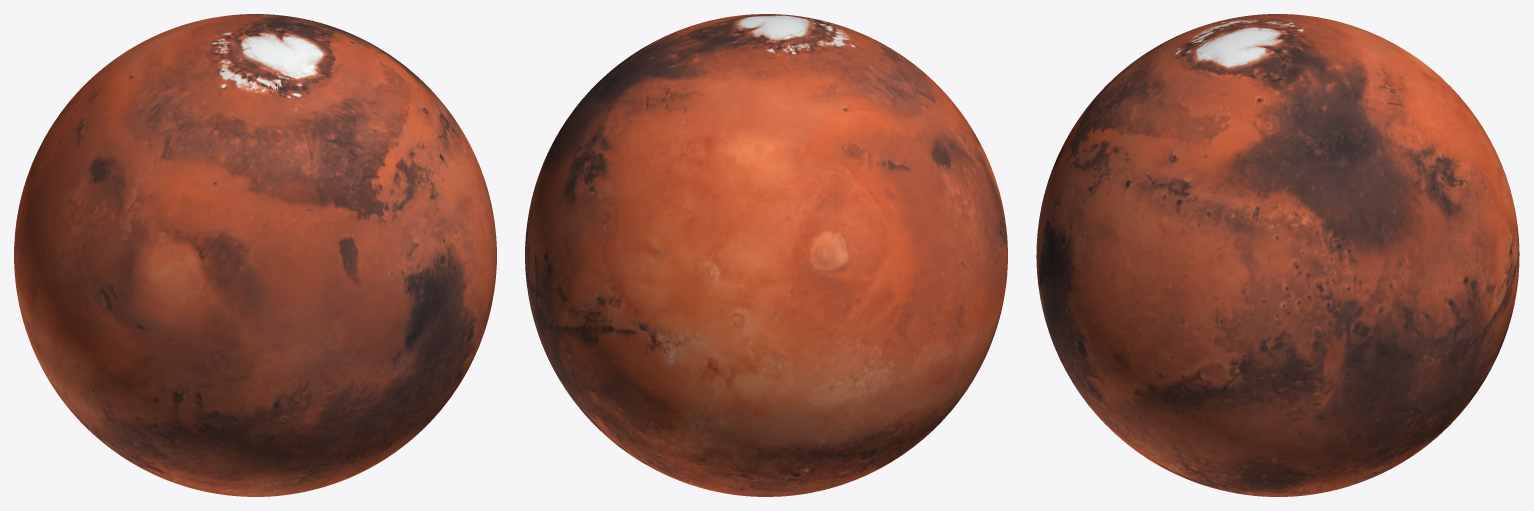
File: mars.glb
The picture shows the model from 3 angles, left to right: view 1: azimuth 30°, elevation 25°; view 2: azimuth 150°, elevation 25°; view 3: azimuth 270°, elevation 25°; orthographic projection.
Visible parts, largest first — view 1: mars_1; view 2: mars_1; view 3: mars_1.
Part boxes in pixels (x1,y1,x2,y2): mars_1: (14, 14, 496, 496); mars_1: (525, 14, 1007, 496); mars_1: (1036, 14, 1519, 496).
Bounding box in the file's own units: 5.09 × 5.09 × 5.09.
1 material, 1 textured.
